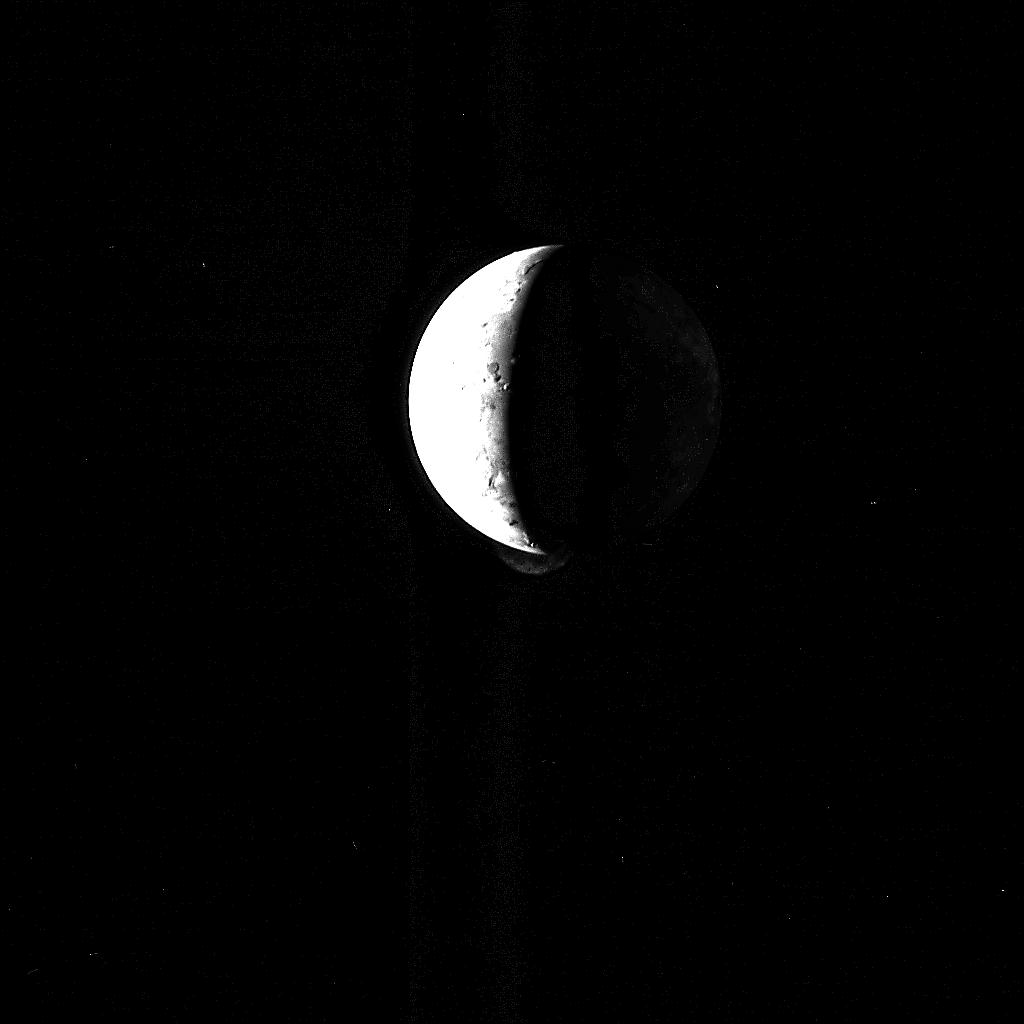plumes: (495, 546, 565, 575)
